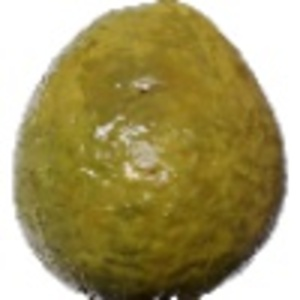goiaba: (8, 5, 286, 294)
